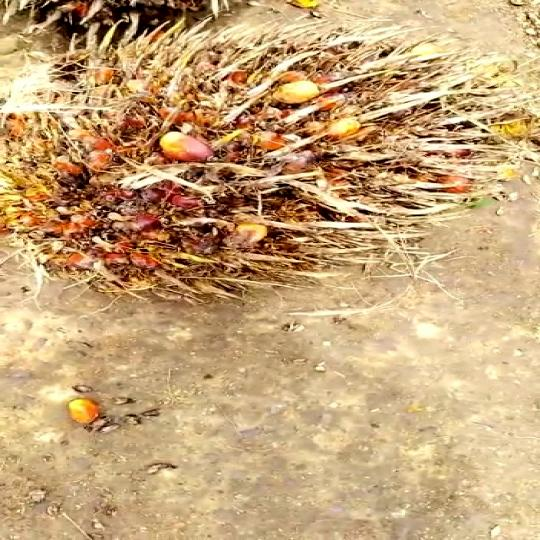terlalu masak: (0, 4, 540, 297)
